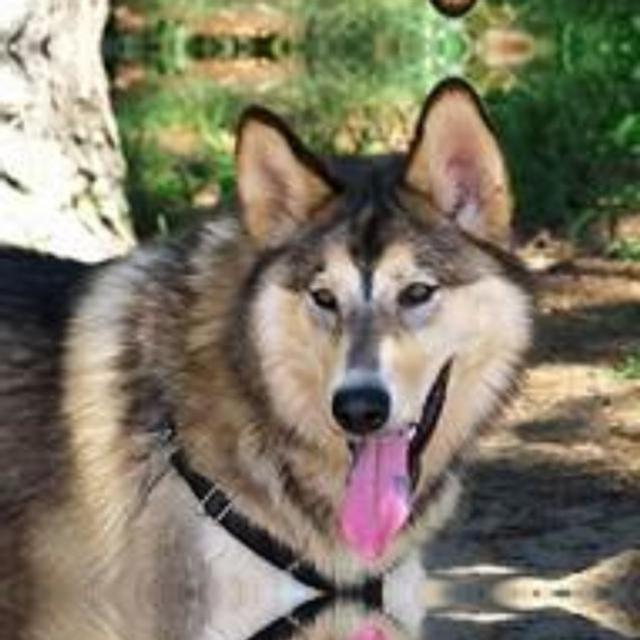dog: (55, 102, 549, 592), (55, 592, 549, 640)
